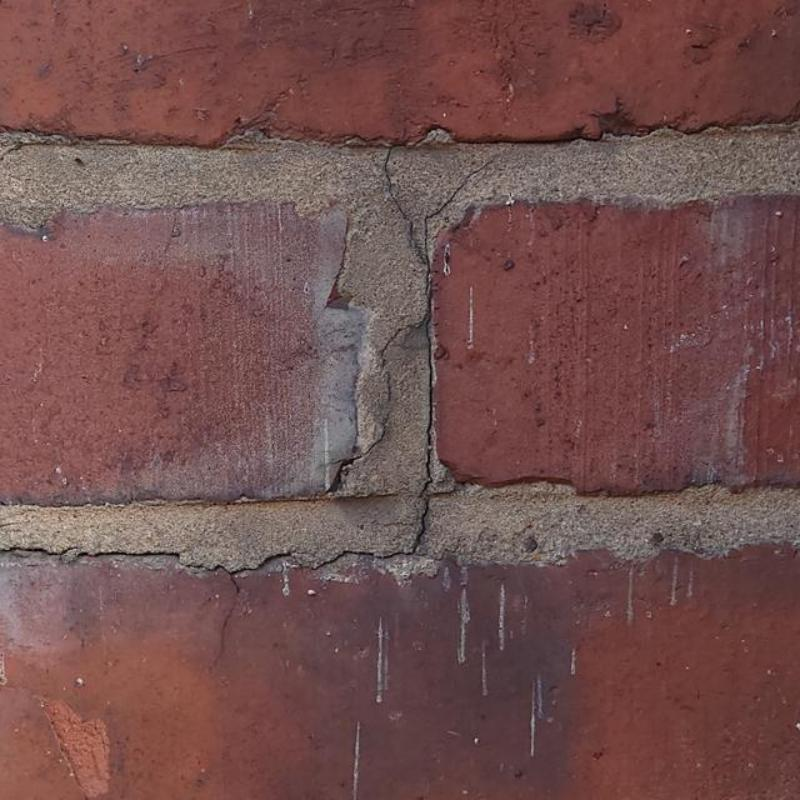crack: (376, 142, 496, 500), (185, 550, 297, 671), (320, 411, 391, 496), (376, 498, 459, 561), (292, 549, 375, 573), (78, 549, 181, 561), (0, 545, 80, 558)
